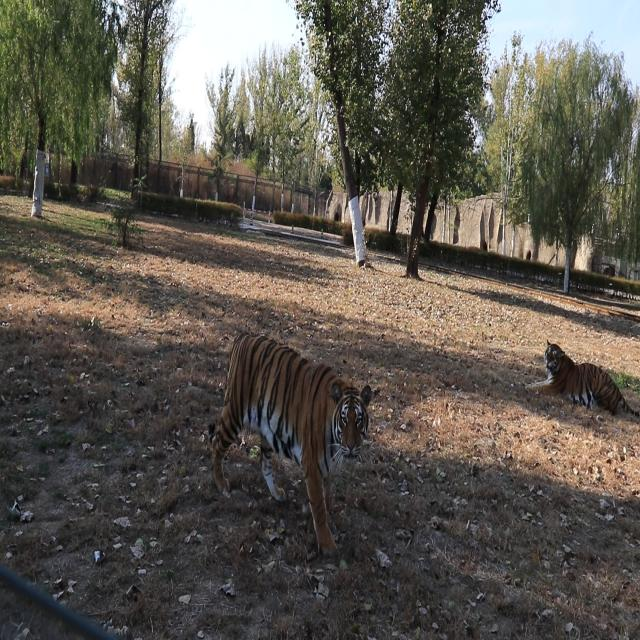Tiger: (192, 313, 398, 581), (514, 329, 640, 425)
